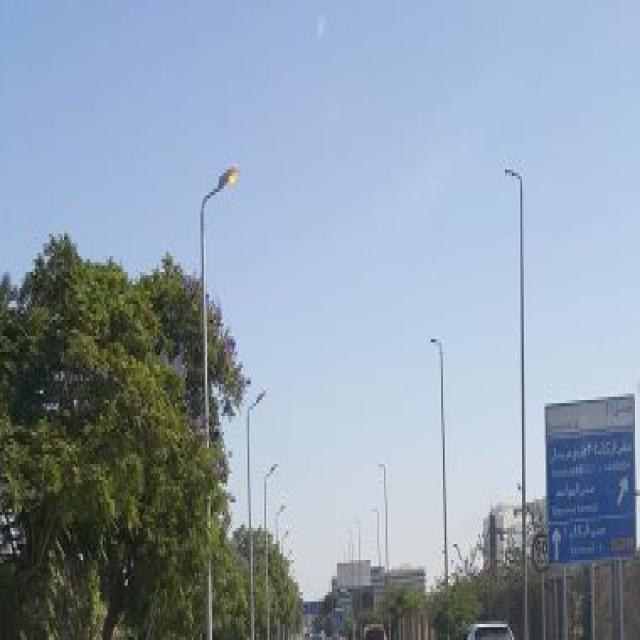Street Light: (199, 163, 239, 640), (502, 163, 530, 637), (428, 336, 450, 614), (246, 390, 266, 624)
